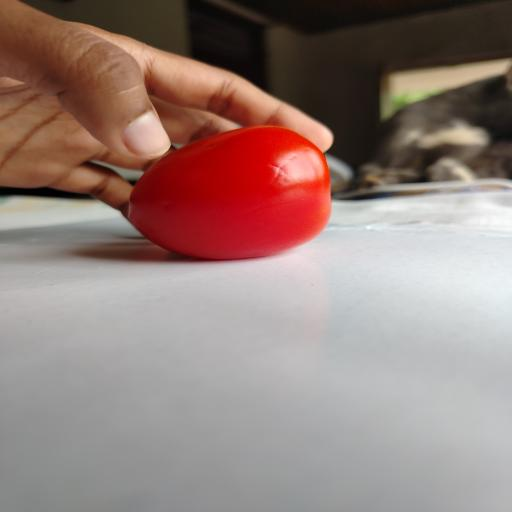ripe: (129, 126, 331, 259)
